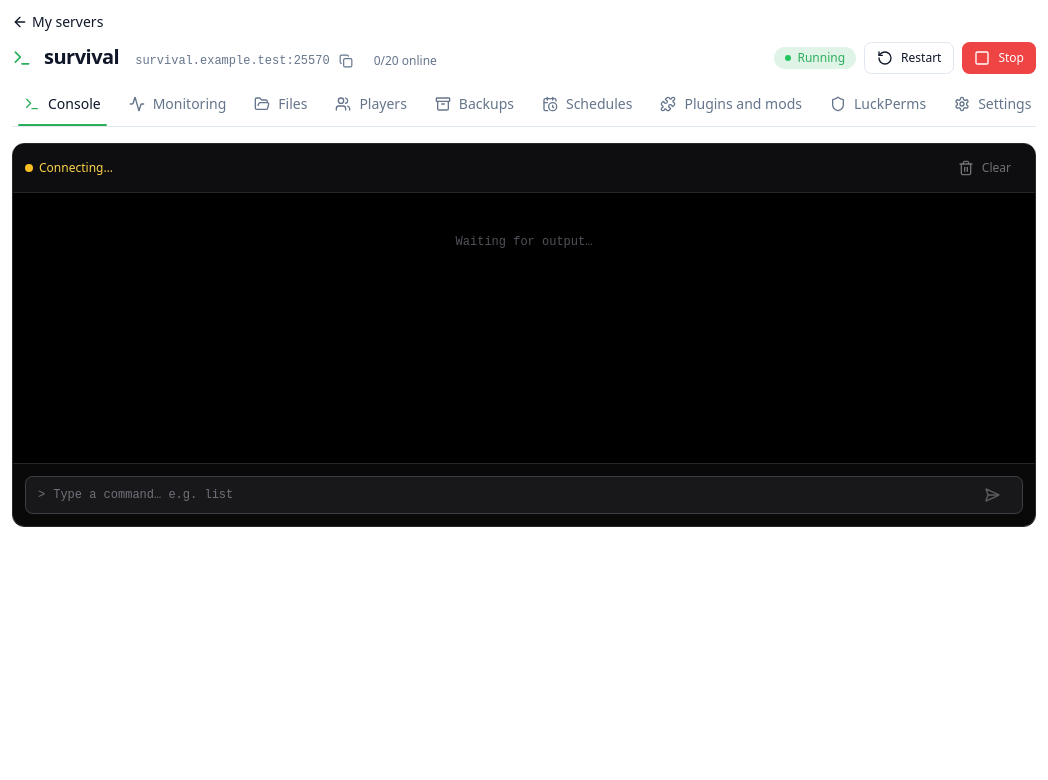
Test: ServerConsole command line › removes input when status becomes stale and ignores a pending reply
Type "list" into the field named "Server command" at (510, 495), box [53, 479, 966, 511]
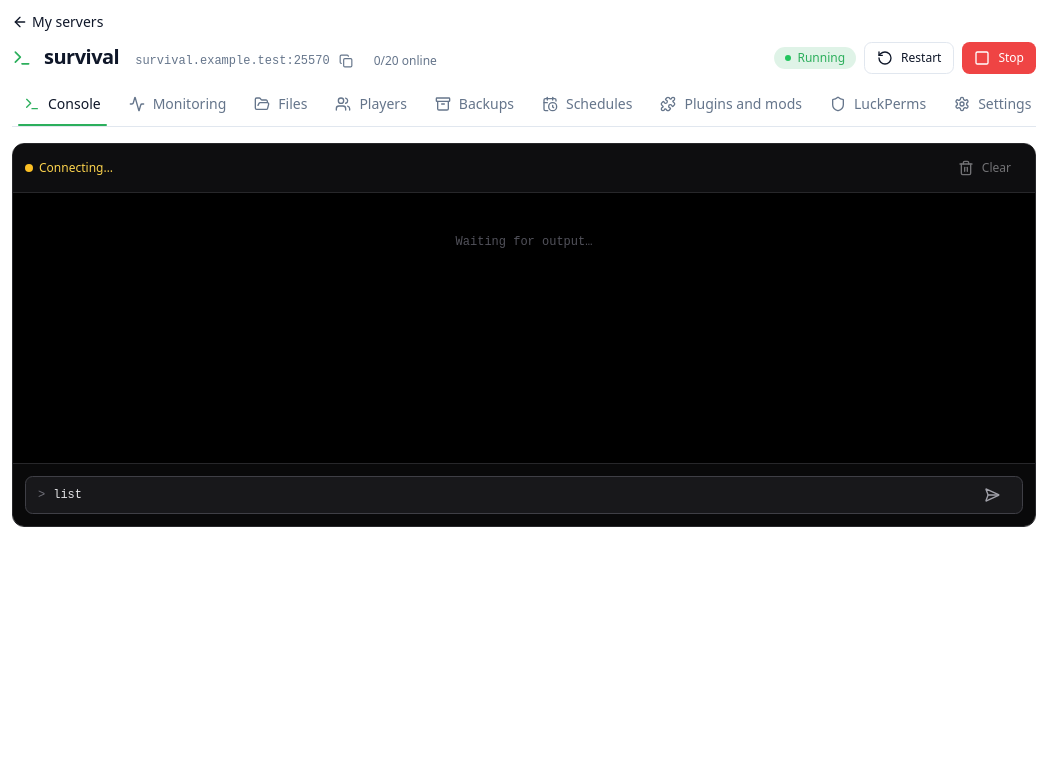
Press Enter in the field named "Server command", box [53, 479, 966, 511]
Wait 15000 ms
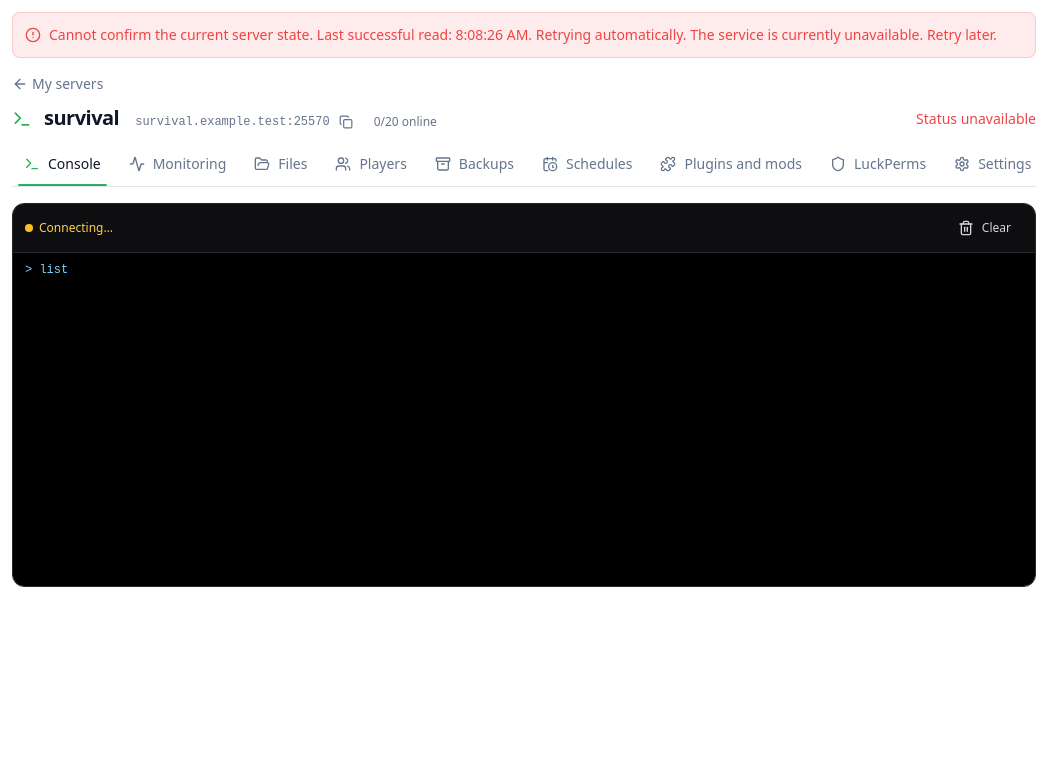
Now the text "Cannot confirm the current server state" is shown, box [49, 25, 997, 44]
